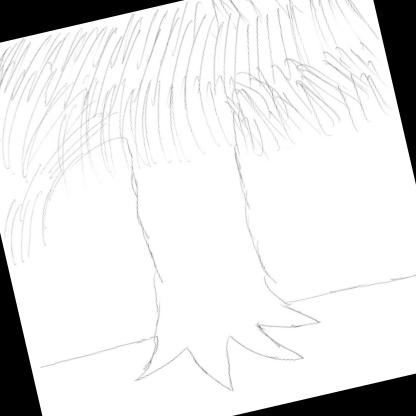crown_dizzy: (0, 0, 412, 267)
root_upside: (120, 286, 332, 413)
trunk_straight: (117, 148, 283, 325)
